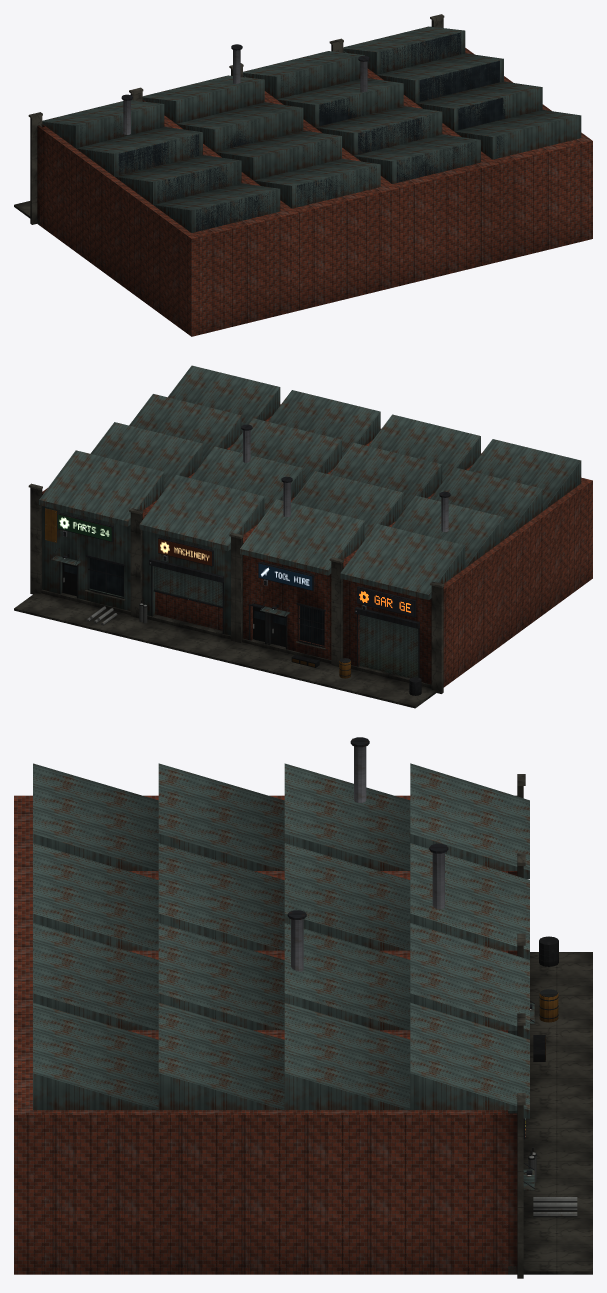
File: row_workshop.glb
The picture shows the model from 3 angles, top to bottom: view 1: azimuth 30°, elevation 25°; view 2: azimuth 150°, elevation 25°; view 3: azimuth 270°, elevation 25°; orthographic projection. The views are drawn at different scales.
Visible parts, largest first — view 1: row_workshop; view 2: row_workshop; view 3: row_workshop.
Part boxes in pixels (<box>): row_workshop: <box>14,14,592,336</box>; row_workshop: <box>14,365,592,708</box>; row_workshop: <box>14,737,592,1278</box>.
Bounding box in the file's own units: 24.7 × 8.68 × 18.4.
